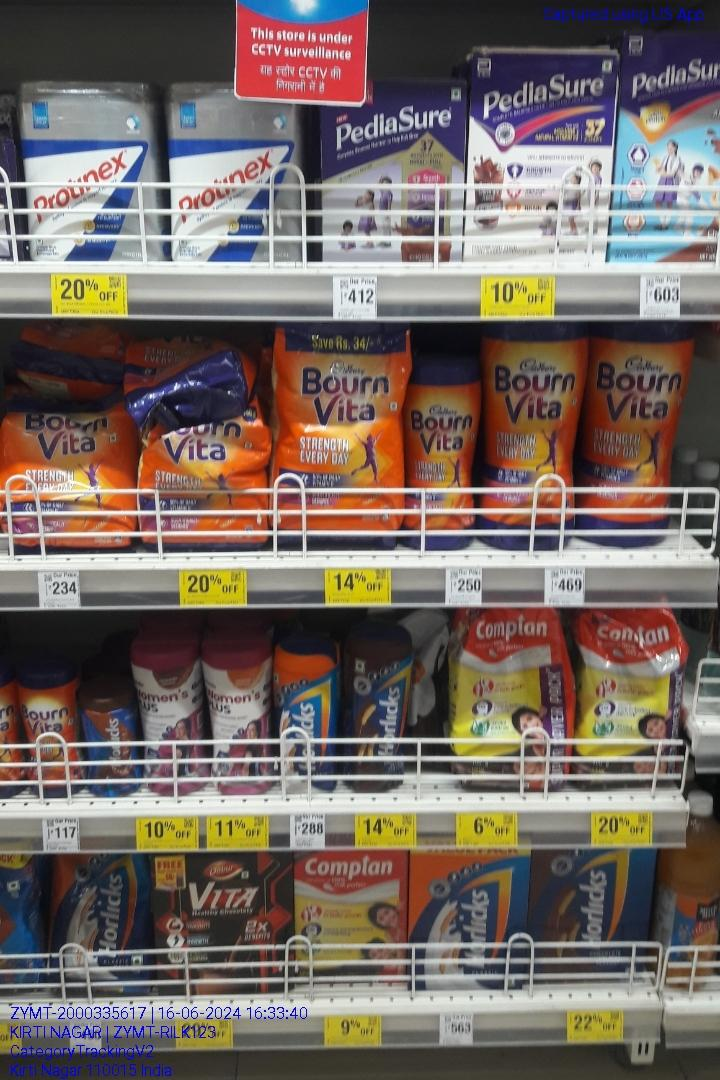BOURN_VITA_1_KG_JAR: (483, 325, 576, 550), (584, 320, 674, 547)
BOURN_VITA_500_G_JAR: (408, 357, 475, 551), (20, 664, 81, 797)
COMPLAN_CHOCOLATE_500_GMS_PACK: (299, 854, 407, 984)
COMPLAN_RC_POUCH_700_GMS_12: (455, 610, 571, 792), (577, 609, 684, 786)
HORLICK_CHOCOLATE_200_G_JAR: (84, 687, 137, 798)
HORLICK_CLASSIC_MALT_500_G_JAR: (276, 645, 336, 791)
PEDIASURE_CHOCOLATE_500_G_PACK: (322, 110, 459, 266)
PROTINEX_ORIGINAL_400_G_JAR: (26, 81, 156, 265), (170, 111, 302, 263)
